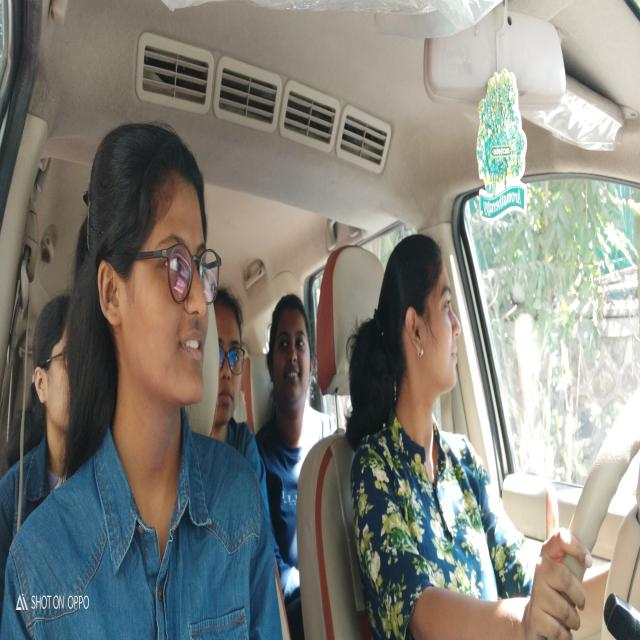LeftRight: (382, 229, 471, 403)
person: (84, 114, 211, 406), (27, 299, 76, 450), (265, 292, 315, 412), (211, 293, 245, 448)
